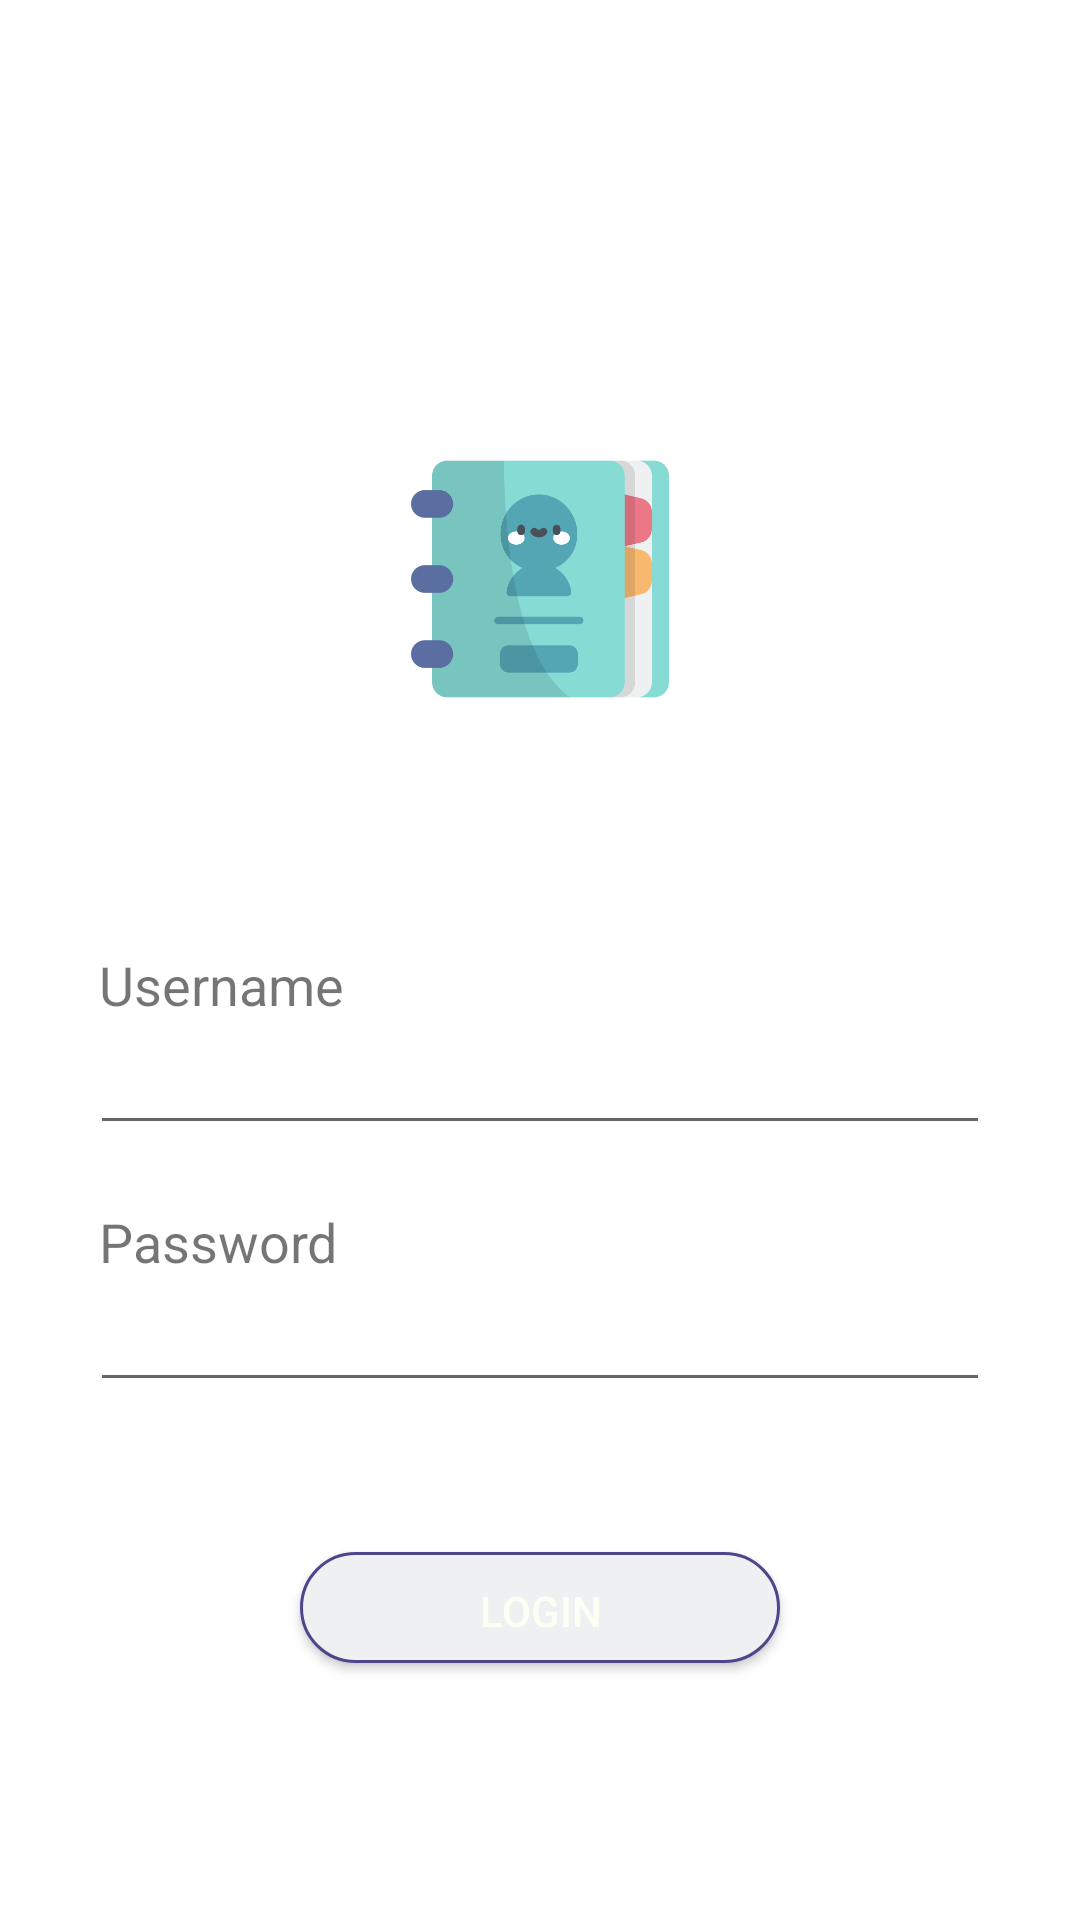

Icon bounding boxes for this 1080 × 1920 phone screenshot, format (x1, y1, x2, y2):
freepik agenda: (411, 460, 669, 698)
